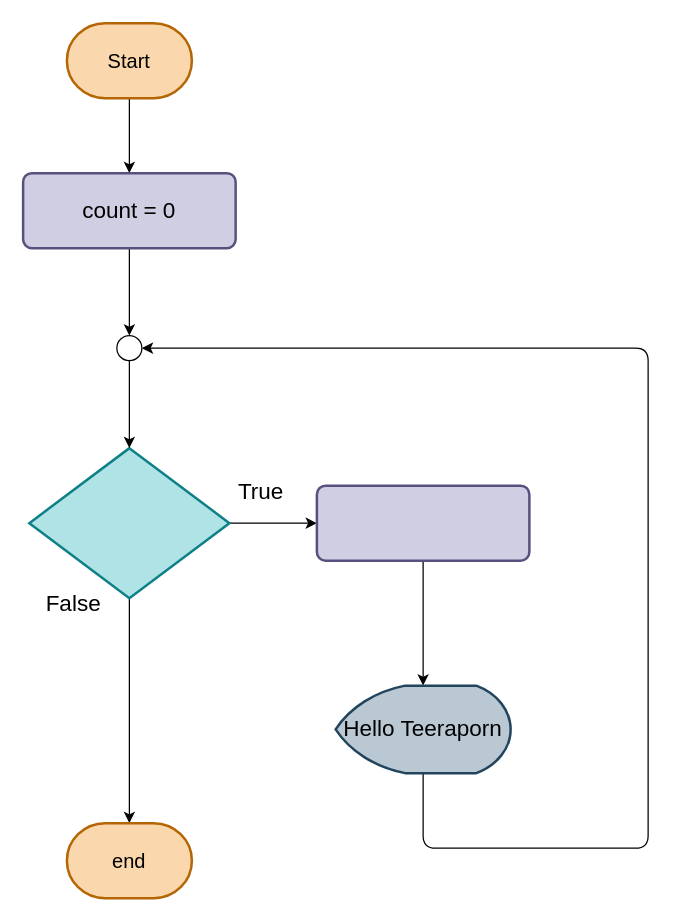
The diagram is 680 pixels wide and 920 high, and some of its shapes have lost their labels. Each missing label, with the centre of its shape:
"count < 3" goes at [129,522].
"count = count + 1" goes at [422,522].
